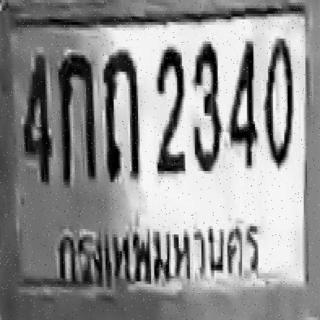A01: (57, 52, 94, 182)
A22: (102, 47, 140, 179)
N00: (263, 36, 292, 168)
N02: (155, 47, 184, 174)
N03: (192, 41, 221, 171)
N04: (228, 38, 257, 168), (23, 52, 50, 182)
P04: (47, 215, 270, 295)
